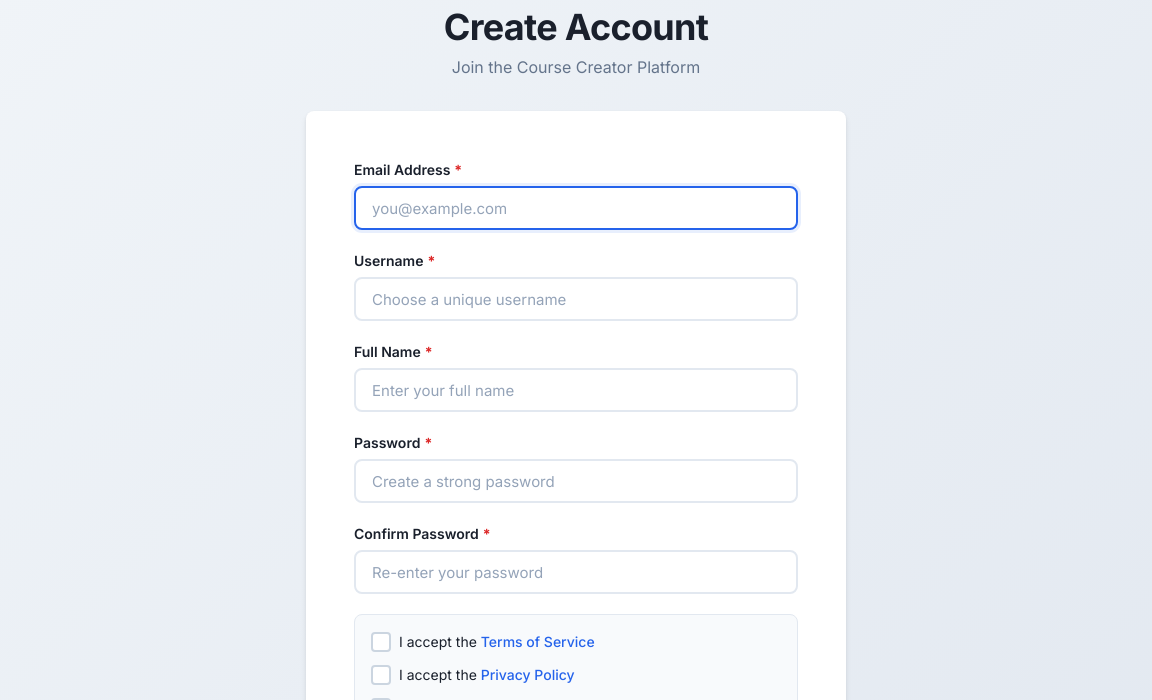
RegistrationPage Component › Form Validation - Username › shows error when username contains invalid characters
Type "user@name!" into the field labelled "Username*". click: (576, 299)
box: left=354, top=277, right=798, bottom=321
(page scrolled)
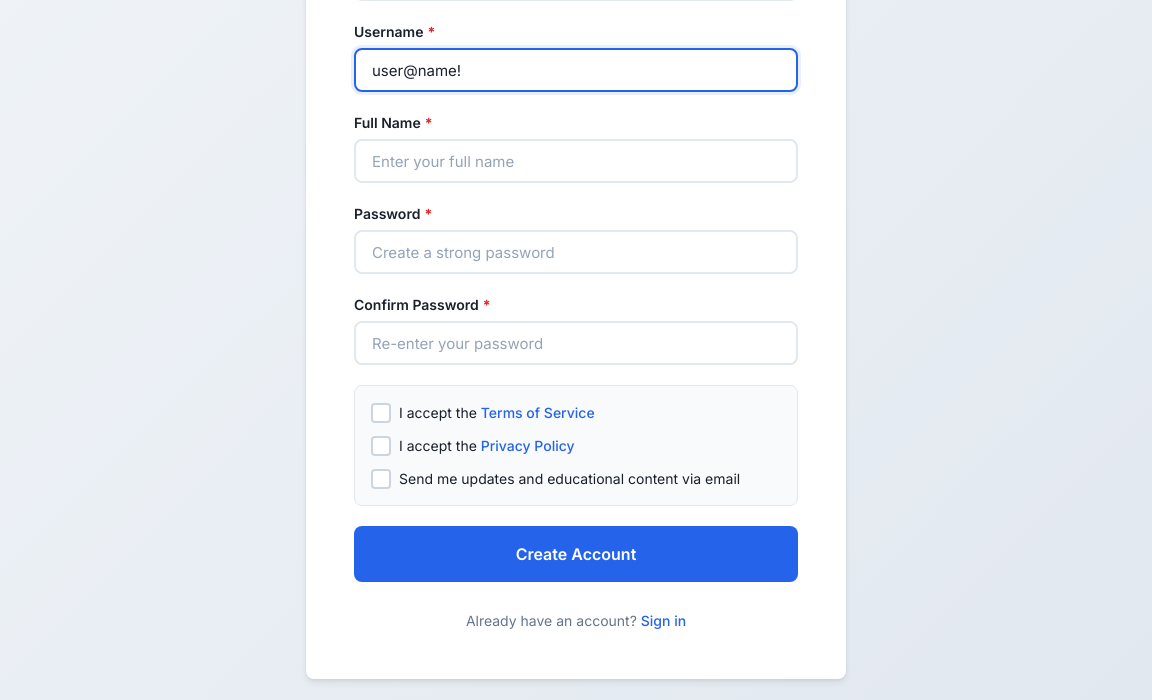
Click the button "Create Account". click: (576, 554)
box: left=354, top=526, right=798, bottom=582
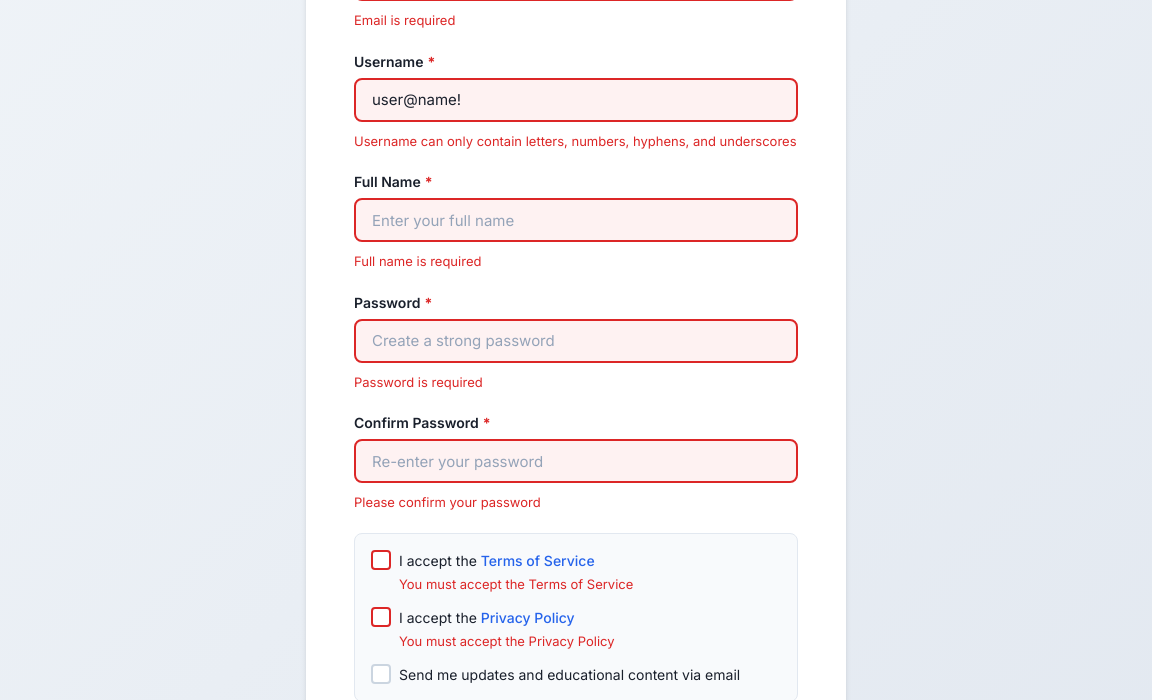
Expected: the text "Username can only contain letters, numbers, hyphens, and underscores" is shown, left=354, top=132, right=798, bottom=151
